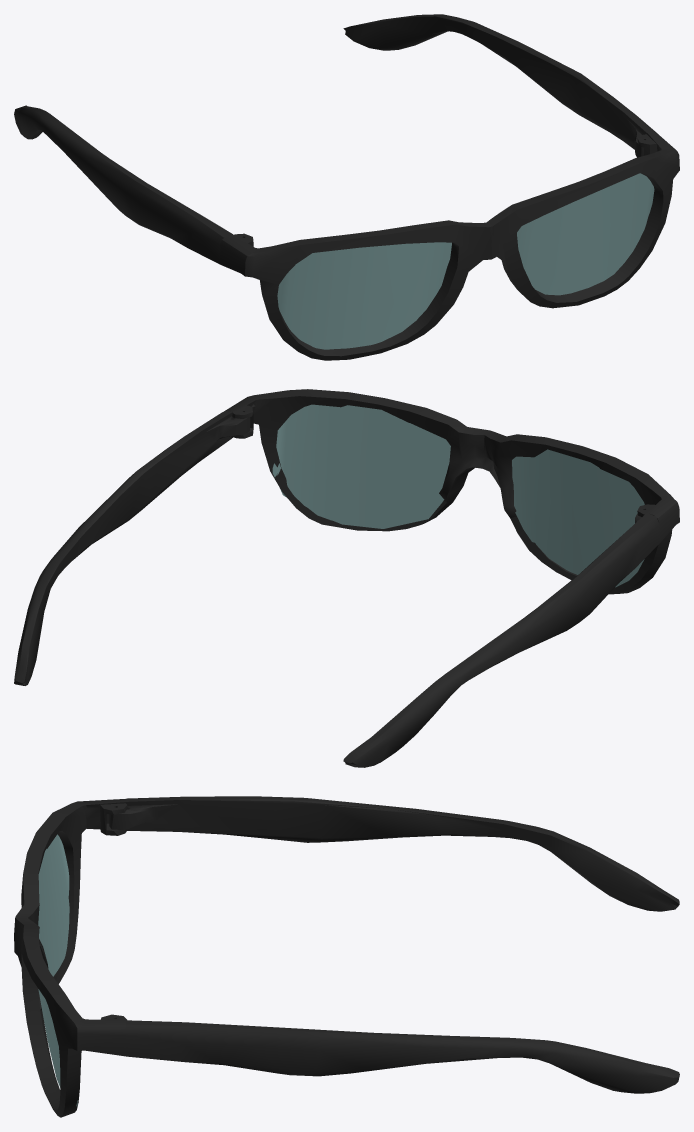
Rendered from itwork_face_model_1.gltf.
3 renders of one model, top to bottom at view 1: azimuth 30°, elevation 25°; view 2: azimuth 150°, elevation 25°; view 3: azimuth 270°, elevation 25°, orthographic. The views are drawn at different scales.
Parts seen in each view (by area): view 1: right_duga; view 2: right_duga; view 3: right_duga.
Part boxes in pixels (x1,y1,x2,y2): right_duga: [14, 14, 679, 360]; right_duga: [14, 389, 679, 767]; right_duga: [14, 796, 679, 1117].
Size of the model in its own units: 17.44 by 4.68 by 20.48.
